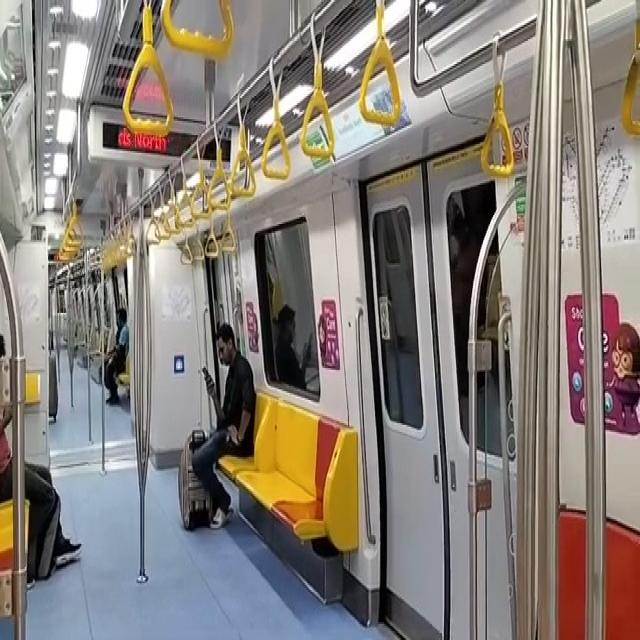bus-door: (352, 151, 513, 640)
